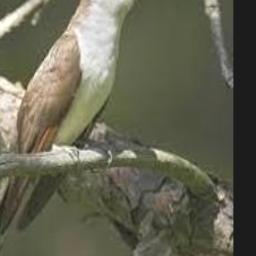Cuckoo: (0, 0, 162, 256)
